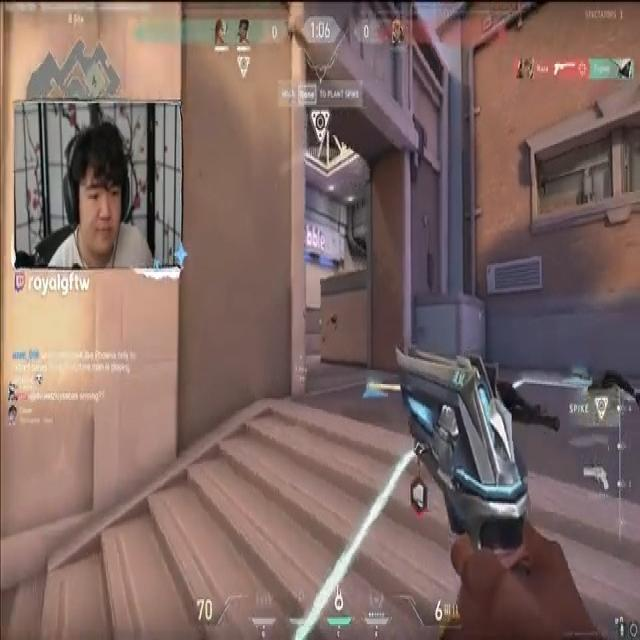gun: (364, 375, 400, 396)
